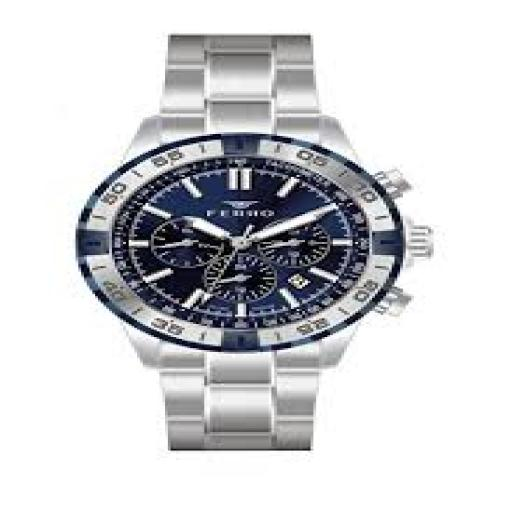KolSaati: (20, 8, 452, 505)
